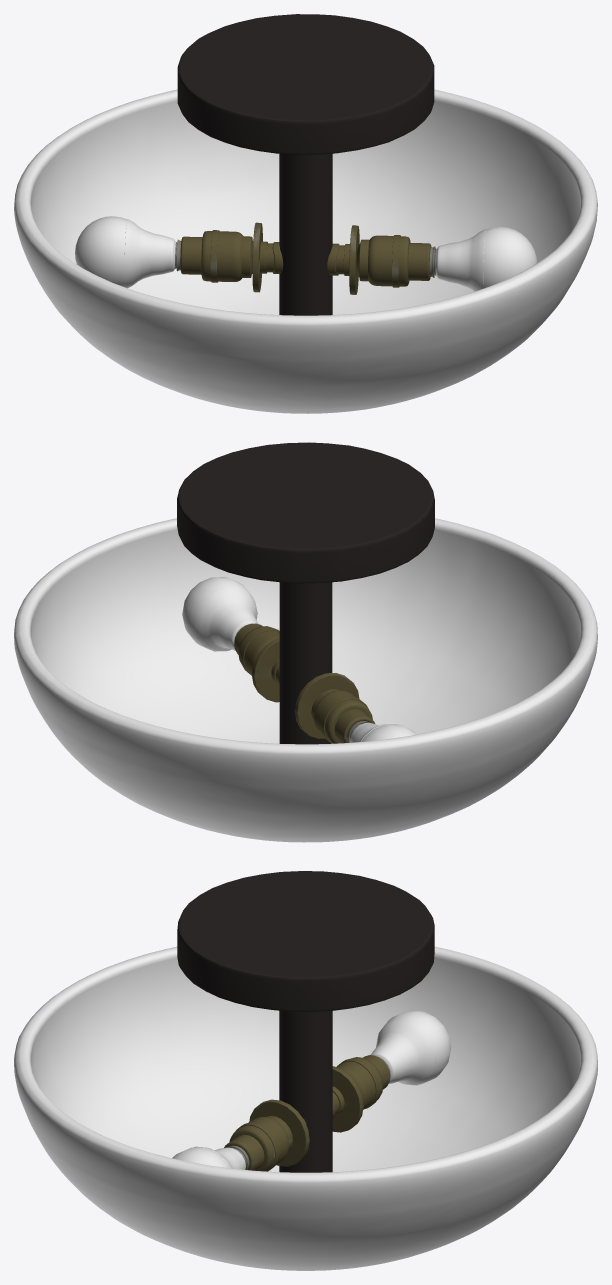
The model's file is abo-B0828F59QW.glb.
3 renders of one model, top to bottom at view 1: azimuth 30°, elevation 25°; view 2: azimuth 150°, elevation 25°; view 3: azimuth 270°, elevation 25°, orthographic.
Size of the model in its own units: 0.331 by 0.212 by 0.331.
1 material, 1 textured.
